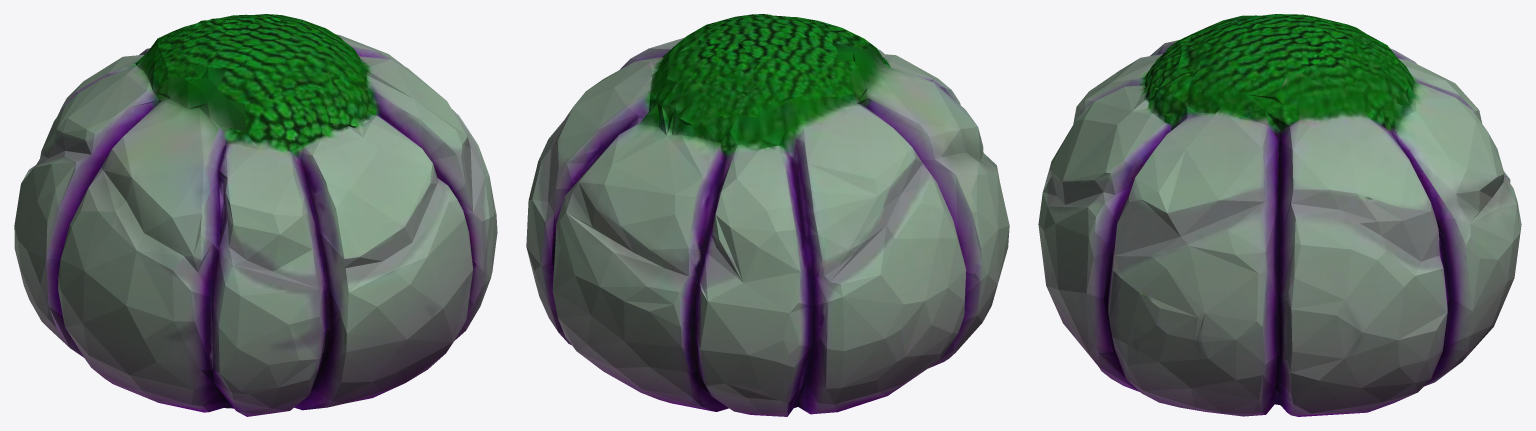
Rendered from boulder.glb.
3 views of the same model, side by side, from view 1: azimuth 30°, elevation 25°; view 2: azimuth 150°, elevation 25°; view 3: azimuth 270°, elevation 25° (orthographic).
Parts seen in each view (by area): view 1: tmpukiz0c90.ply; view 2: tmpukiz0c90.ply; view 3: tmpukiz0c90.ply.
Part boxes in pixels (box(x1,y1,x2,y2)): tmpukiz0c90.ply: box(14, 14, 497, 416); tmpukiz0c90.ply: box(526, 14, 1009, 416); tmpukiz0c90.ply: box(1038, 14, 1521, 416).
Bounding box in the file's own units: 1.99 × 1.53 × 1.99.
1 material, 1 textured.
